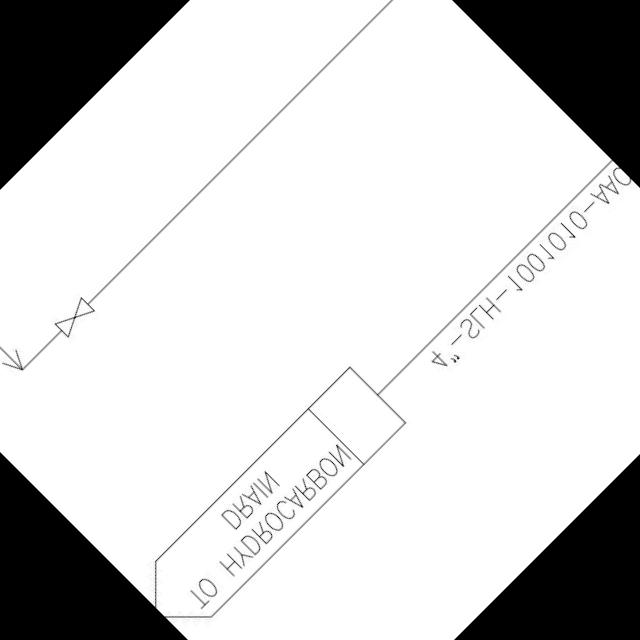GV: (48, 288, 102, 342)
